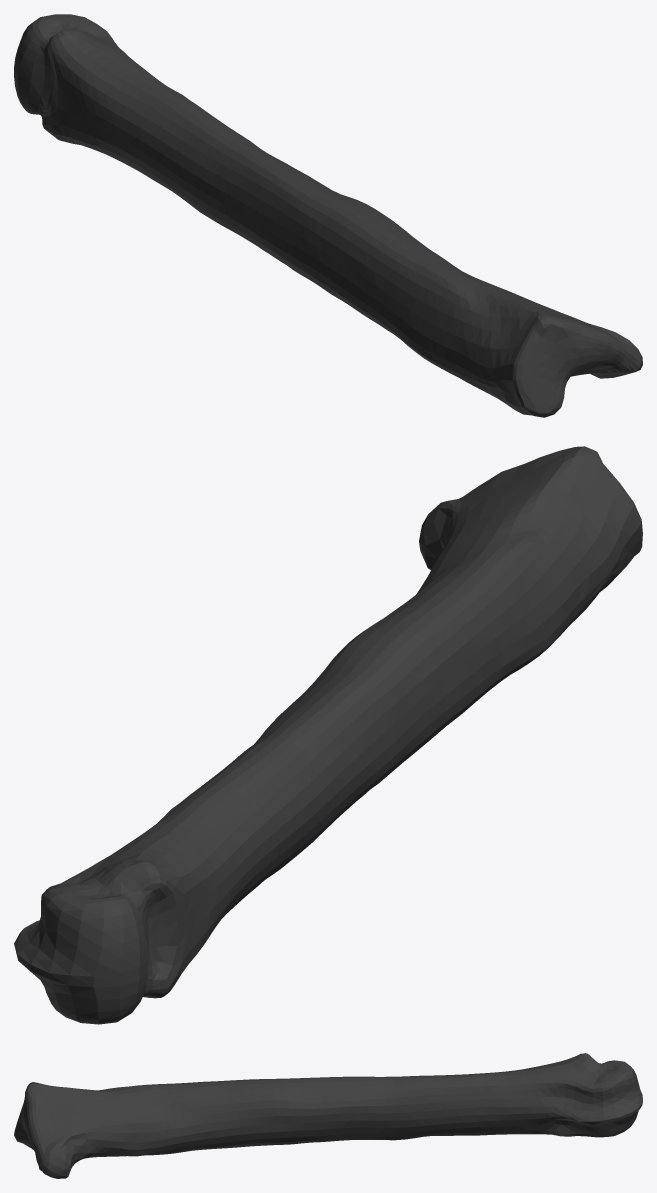
The model's file is Metatarsus_modified1_L.glb.
3 views of the same model, one above another, from view 1: azimuth 30°, elevation 25°; view 2: azimuth 150°, elevation 25°; view 3: azimuth 270°, elevation 25° (orthographic). The views are drawn at different scales.
Parts seen in each view (by area): view 1: Metatarsus_modified1_L; view 2: Metatarsus_modified1_L; view 3: Metatarsus_modified1_L.
Part boxes in pixels (x1,y1,x2,y2): Metatarsus_modified1_L: (14, 14, 642, 417); Metatarsus_modified1_L: (14, 446, 642, 1024); Metatarsus_modified1_L: (14, 1053, 642, 1178).
Bounding box in the file's own units: 0.0321 × 0.0161 × 0.1259.
Materials: 1 (1 with a texture image).
